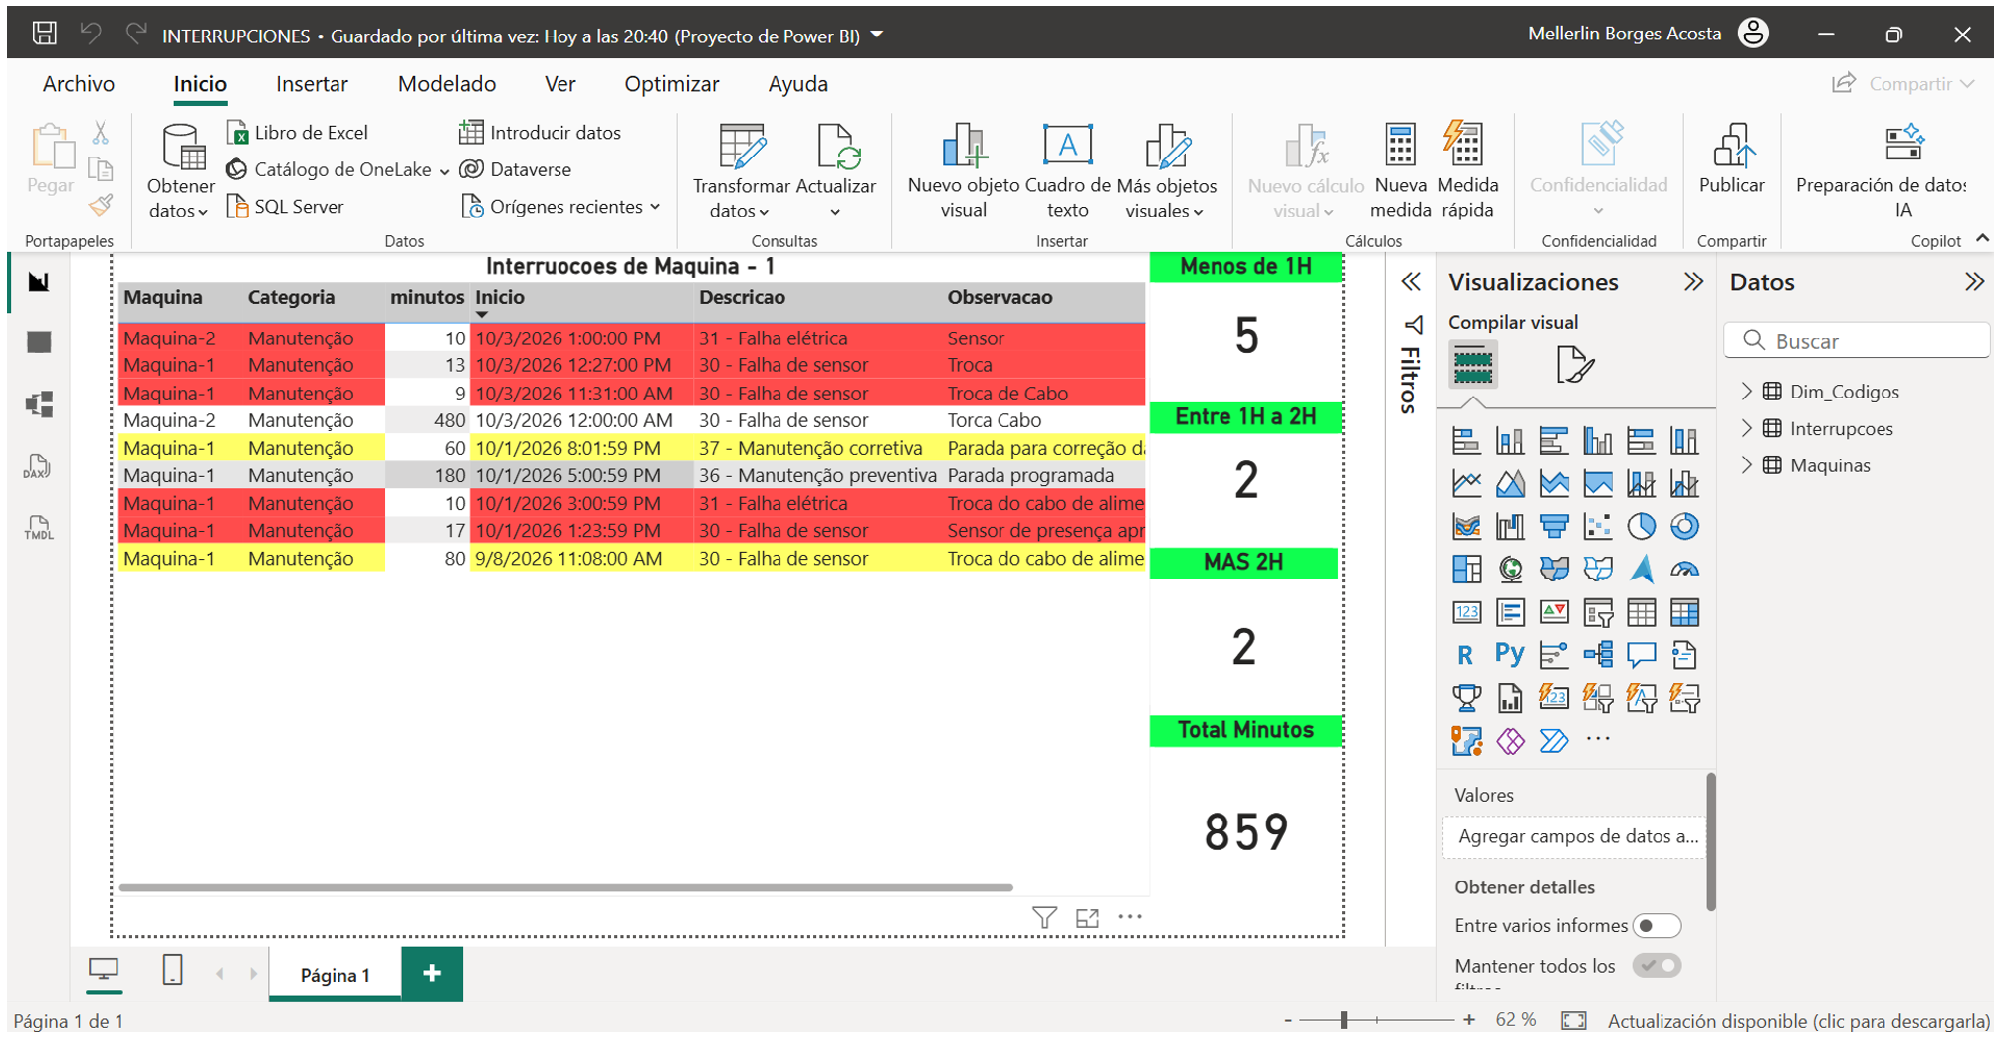

What the dashboard file says about the page in this screenshot:
{"tool":"powerbi","page":{"name":"Página 1","canvas":[1280,720],"ordinal":0},"visuals":[{"type":"tableEx","title":"Interruocoes de Maquina - 1","fields":{"Values":["Maquinas.Maquina","Dim_Codigos.Categoria","Sum(Interrupcoes.Duracao_minutos)","Interrupcoes.Inicio","Dim_Codigos.Codigo_Descricao","Interrupcoes.Observacao"]},"box":[0,0,1080,680.1],"z":0},{"type":"card","title":"Entre 1H a 2H","fields":{"Values":["Interrupcoes.Cantidad_>1"]},"box":[1080,158.7,200.8,121.4],"z":1000},{"type":"card","title":"Menos de 1H","fields":{"Values":["Interrupcoes.Cantidad_<1"]},"box":[1080,0,200.8,132.8],"z":2000},{"type":"card","title":"MAS 2H","fields":{"Values":["Interrupcoes.Cantidad_>2"]},"box":[1080,312.5,195.9,165.2],"z":3000},{"type":"card","title":"Total Minutos","fields":{"Values":["Interrupcoes.TotalMinutos"]},"box":[1080,489,200.8,202.4],"z":4000}]}

Visuals, with their boxes on the page's 1280x720 design canvas (x1, y1, x2, y2). These are canvas units, not pixel positions in the 1996x1043 screenshot, which may show the page scaled, cropped or inside an application window:
"Interruocoes de Maquina - 1" tableEx: 0,0,1080,680
"Entre 1H a 2H" card: 1080,159,1281,280
"Menos de 1H" card: 1080,0,1281,133
"MAS 2H" card: 1080,312,1276,478
"Total Minutos" card: 1080,489,1281,691
